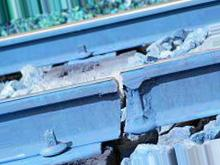tracks_fault: (98, 67, 141, 147)
